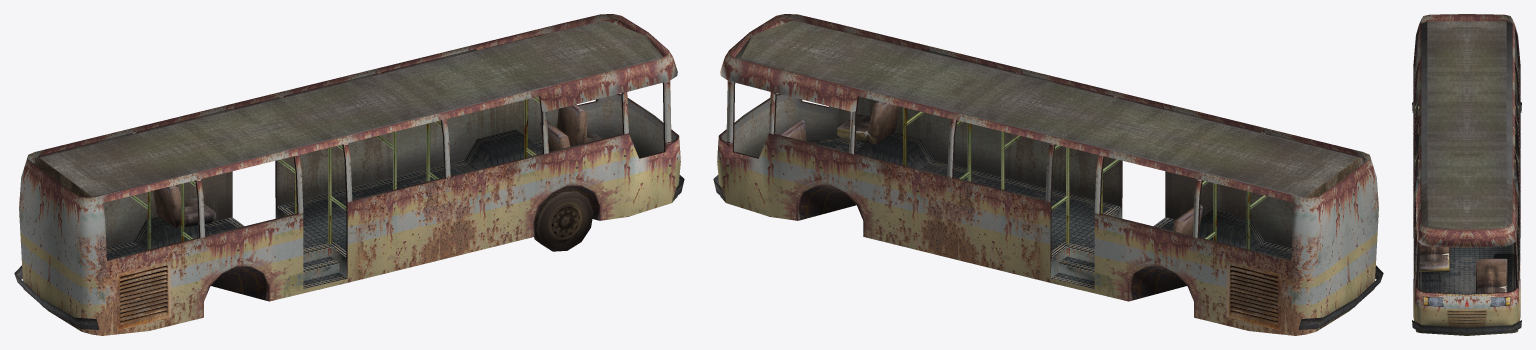
Rendered from Bus.obj.
3 renders of one model, left to right at view 1: azimuth 30°, elevation 25°; view 2: azimuth 150°, elevation 25°; view 3: azimuth 270°, elevation 25°, orthographic. The views are drawn at different scales.
Visible parts, largest first — view 1: Bus; view 2: Bus; view 3: Bus.
Boxes of the visible parts, x1=… form: Bus: x1=14, y1=14, x2=684, y2=335; Bus: x1=713, y1=14, x2=1383, y2=335; Bus: x1=1412, y1=14, x2=1521, y2=335.
Bounding box in the file's own units: 12.92 × 3.31 × 2.68.
Materials: 1 (1 with a texture image).
